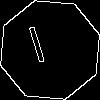I: (25, 25, 52, 73)
